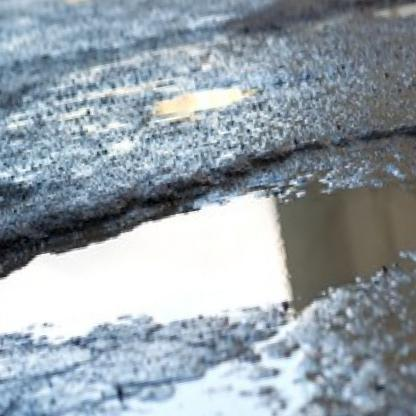pothole: (0, 101, 416, 376), (0, 157, 44, 243), (356, 0, 416, 28)
